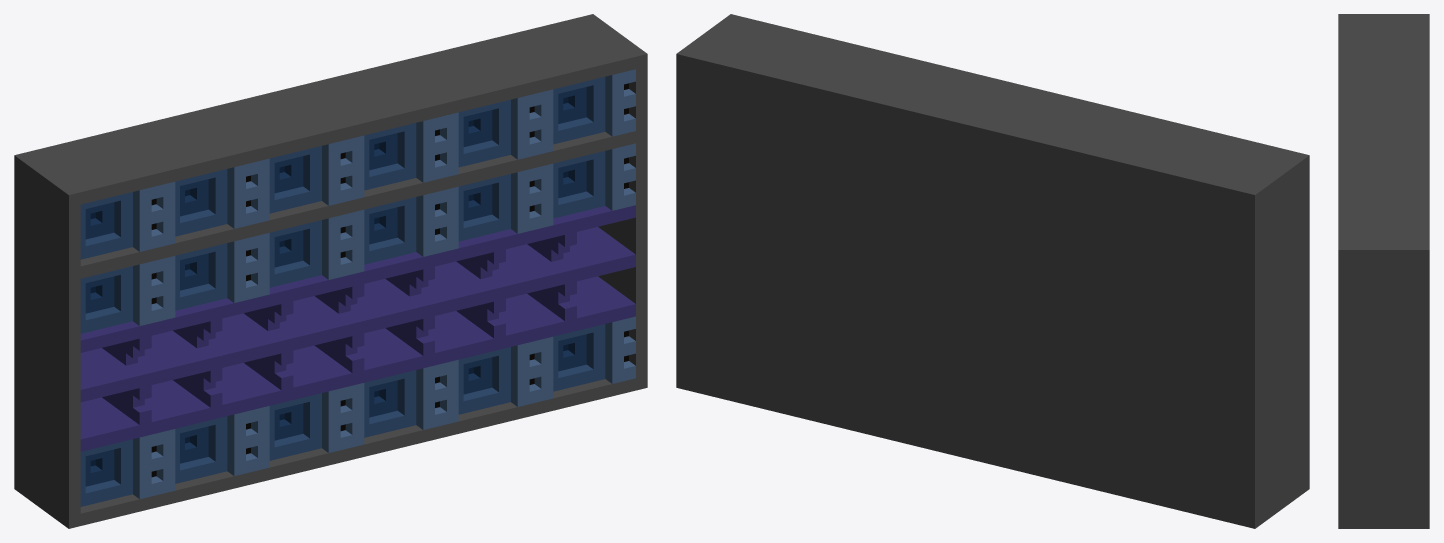
File: CAIXA DE SOM.obj
3 views of the same model, side by side, from view 1: azimuth 30°, elevation 25°; view 2: azimuth 150°, elevation 25°; view 3: azimuth 270°, elevation 25° (orthographic). The views are drawn at different scales.
Size of the model in its own units: 4.9 by 2.7 by 0.8.
Materials: 1 (1 with a texture image).
